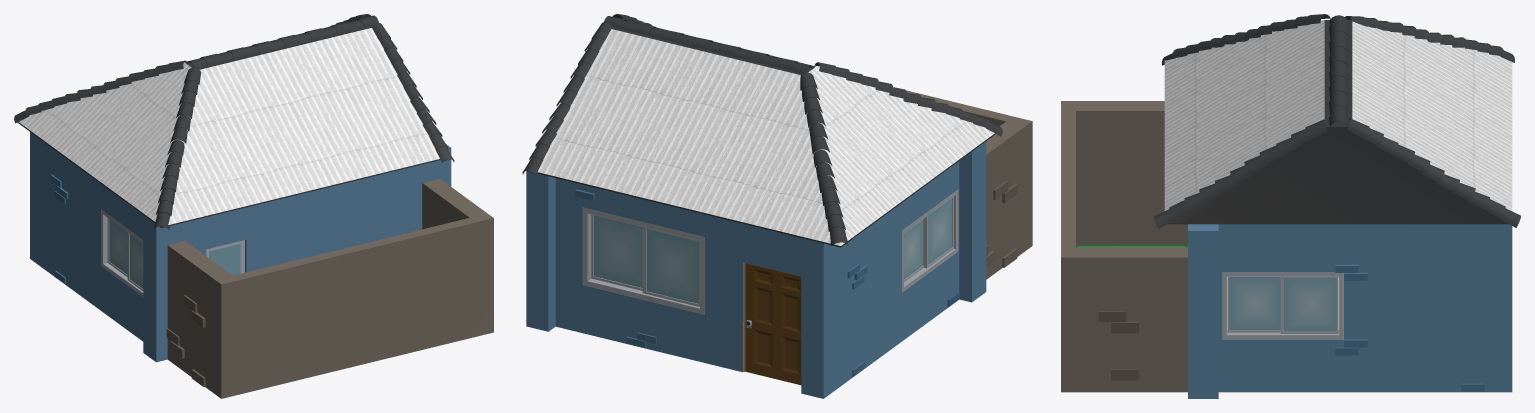
File: Casa1-Azul.FBX
The picture shows the model from 3 angles, left to right: view 1: azimuth 30°, elevation 25°; view 2: azimuth 150°, elevation 25°; view 3: azimuth 270°, elevation 25°; orthographic projection. The views are drawn at different scales.
Visible parts, largest first — view 1: Casa, Techo, Ventana, Door-2; view 2: Techo, Casa, Ventana, Puerta; view 3: Casa, Techo, Ventana.
Boxes of the visible parts, <box> form: Casa: <box>30,132,493,398</box>; Techo: <box>14,14,454,229</box>; Ventana: <box>101,209,143,296</box>; Door-2: <box>206,240,244,275</box>; Techo: <box>522,14,1002,247</box>; Casa: <box>526,90,1032,398</box>; Ventana: <box>582,189,958,314</box>; Puerta: <box>745,263,801,385</box>; Casa: <box>1061,101,1512,398</box>; Techo: <box>1153,14,1520,228</box>; Ventana: <box>1222,272,1343,339</box>.
Bounding box in the file's own units: 668 × 744 × 485.
